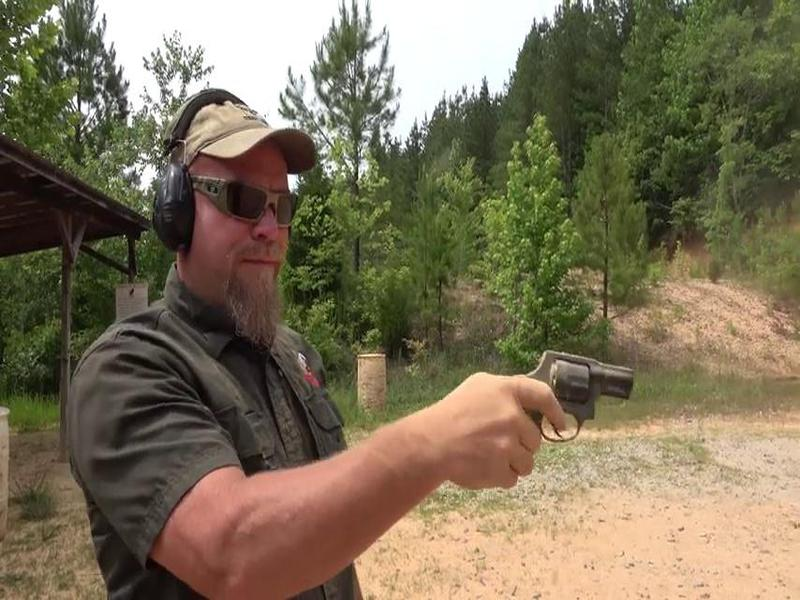Revolver: (508, 337, 642, 451)
